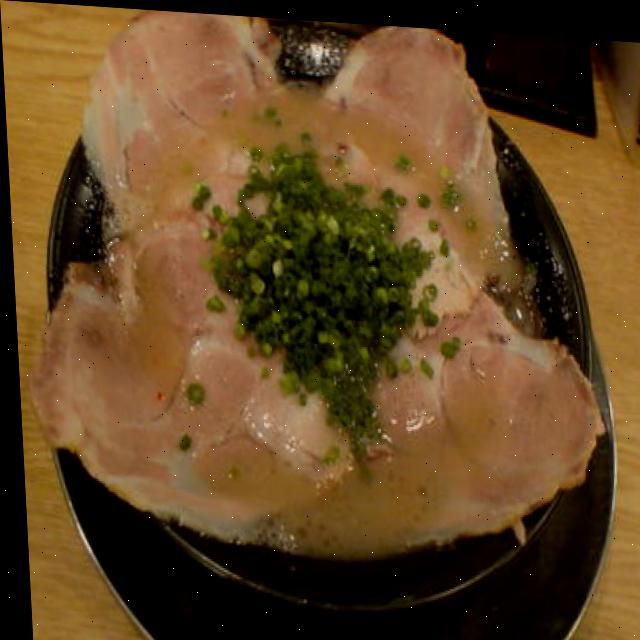面条主食: (36, 2, 626, 640)
